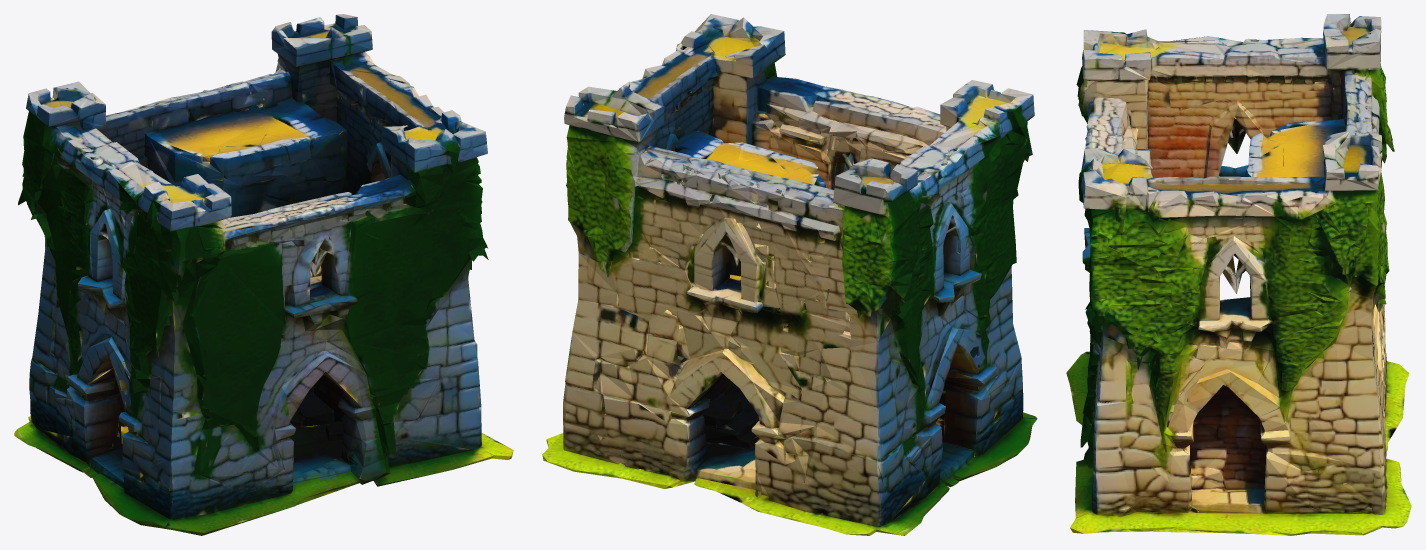
The model's file is landmark_ruined_tower.glb.
3 renders of one model, left to right at view 1: azimuth 30°, elevation 25°; view 2: azimuth 150°, elevation 25°; view 3: azimuth 270°, elevation 25°, orthographic. The views are drawn at different scales.
Parts seen in each view (by area): view 1: geometry_0; view 2: geometry_0; view 3: geometry_0.
Boxes of the visible parts, x1,y1,x2,y2 form: geometry_0: [14, 14, 513, 535]; geometry_0: [542, 14, 1037, 535]; geometry_0: [1066, 14, 1411, 535].
Bounding box in the file's own units: 0.9998 × 0.9354 × 0.8041.
1 material, 1 textured.
